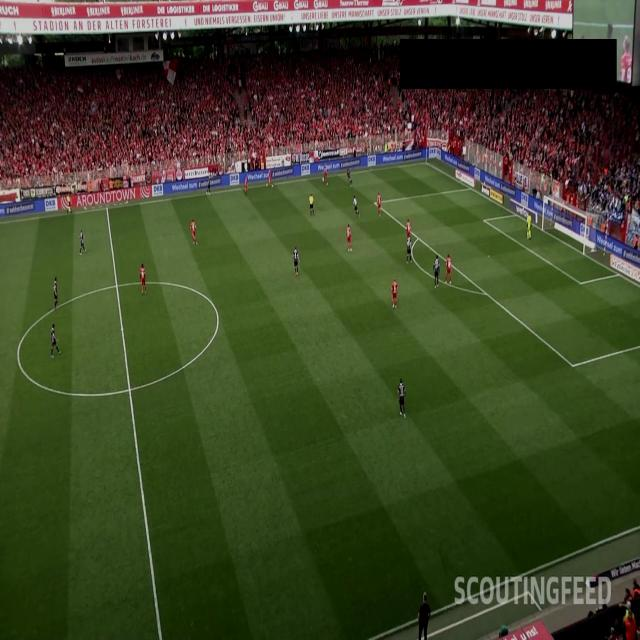goalkeeper: (526, 211, 532, 239)
player: (398, 377, 407, 419), (50, 323, 61, 357), (444, 253, 452, 285), (139, 263, 147, 295), (292, 246, 300, 276), (190, 218, 198, 246), (433, 256, 440, 288), (346, 224, 353, 252), (392, 277, 398, 309), (406, 233, 412, 264), (78, 229, 85, 255), (406, 218, 412, 247), (266, 168, 274, 188), (376, 192, 382, 218), (54, 277, 58, 311), (353, 195, 359, 217), (206, 174, 212, 194), (322, 166, 328, 186), (347, 168, 353, 186), (244, 175, 248, 196)
referee: (308, 192, 314, 216), (66, 192, 72, 214)
